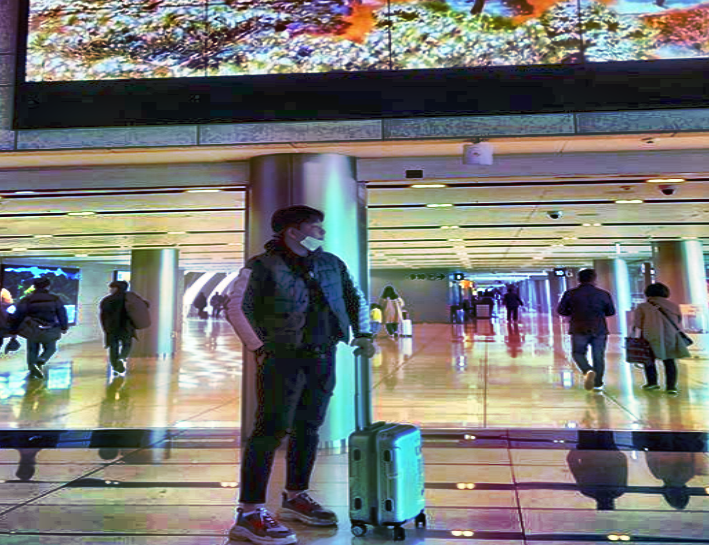mask_weared_incorrect: (273, 203, 330, 256)
